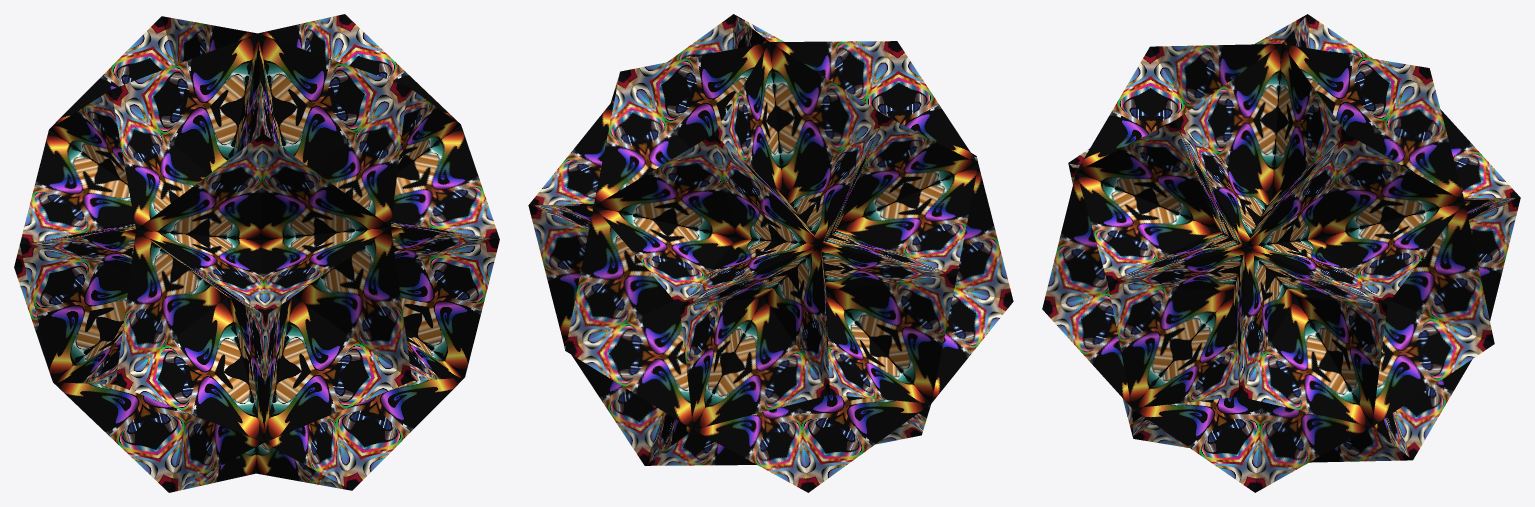
File: Mobius120b_12.obj
3 renders of one model, left to right at view 1: azimuth 30°, elevation 25°; view 2: azimuth 150°, elevation 25°; view 3: azimuth 270°, elevation 25°, orthographic. The views are drawn at different scales.
Size of the model in its own units: 3.09 by 3.02 by 3.11.
1 material, 1 textured.
